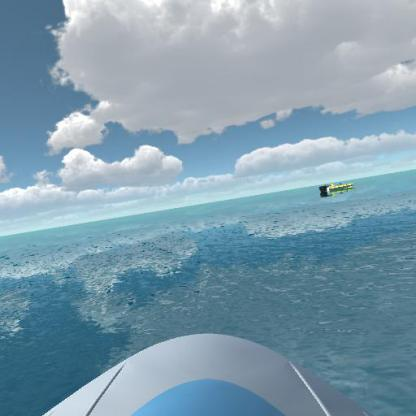usv2: (314, 175, 363, 202)
